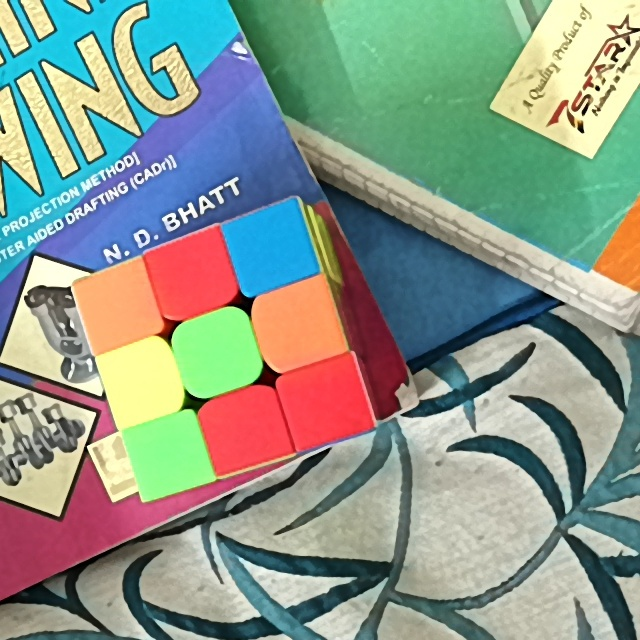tile: (266, 292, 331, 356), (238, 221, 305, 278), (293, 371, 357, 430), (158, 248, 222, 304), (215, 400, 273, 459), (190, 323, 246, 383), (91, 278, 146, 337), (111, 354, 170, 408), (140, 427, 196, 482)
